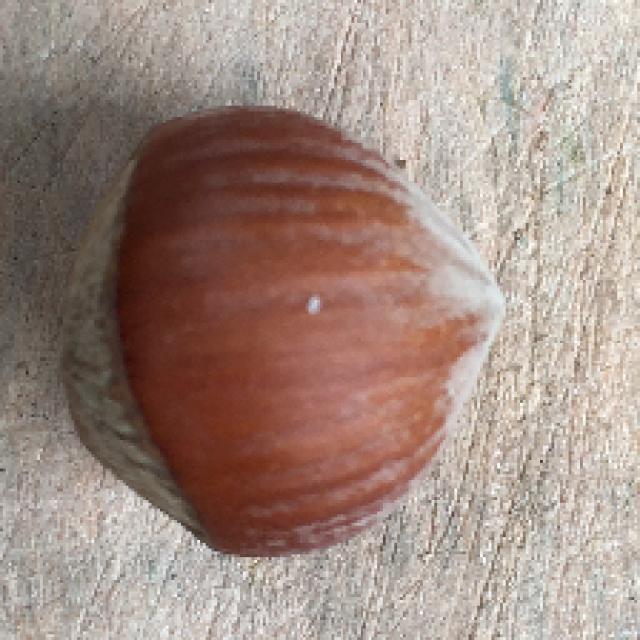qualityHazelnut: (57, 100, 511, 567)
